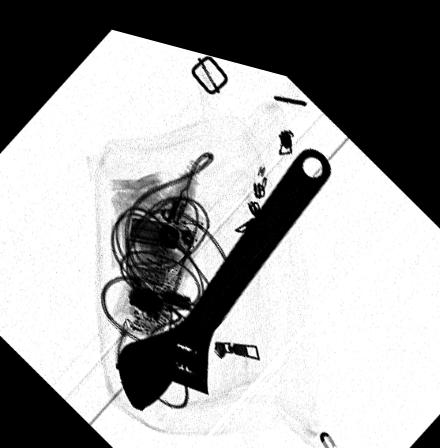Wrench: (110, 129, 331, 406)
